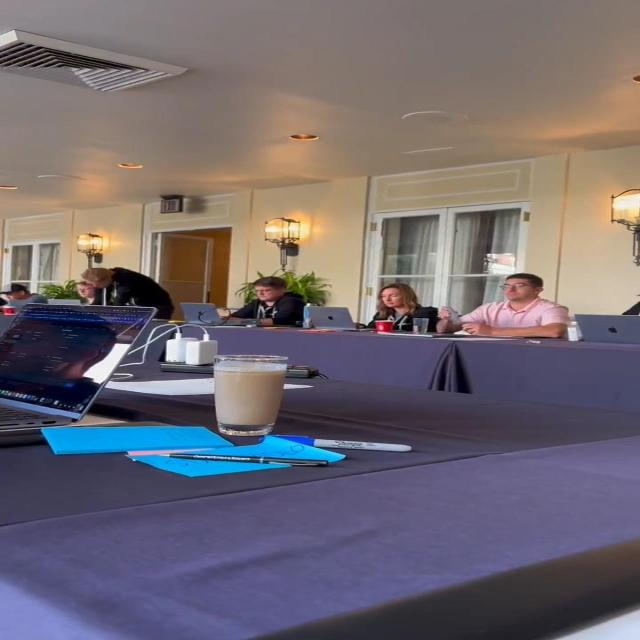NO-Mask: (500, 278, 533, 302), (380, 288, 405, 307), (255, 286, 275, 302), (76, 285, 92, 298), (88, 280, 106, 291), (5, 292, 20, 301)
